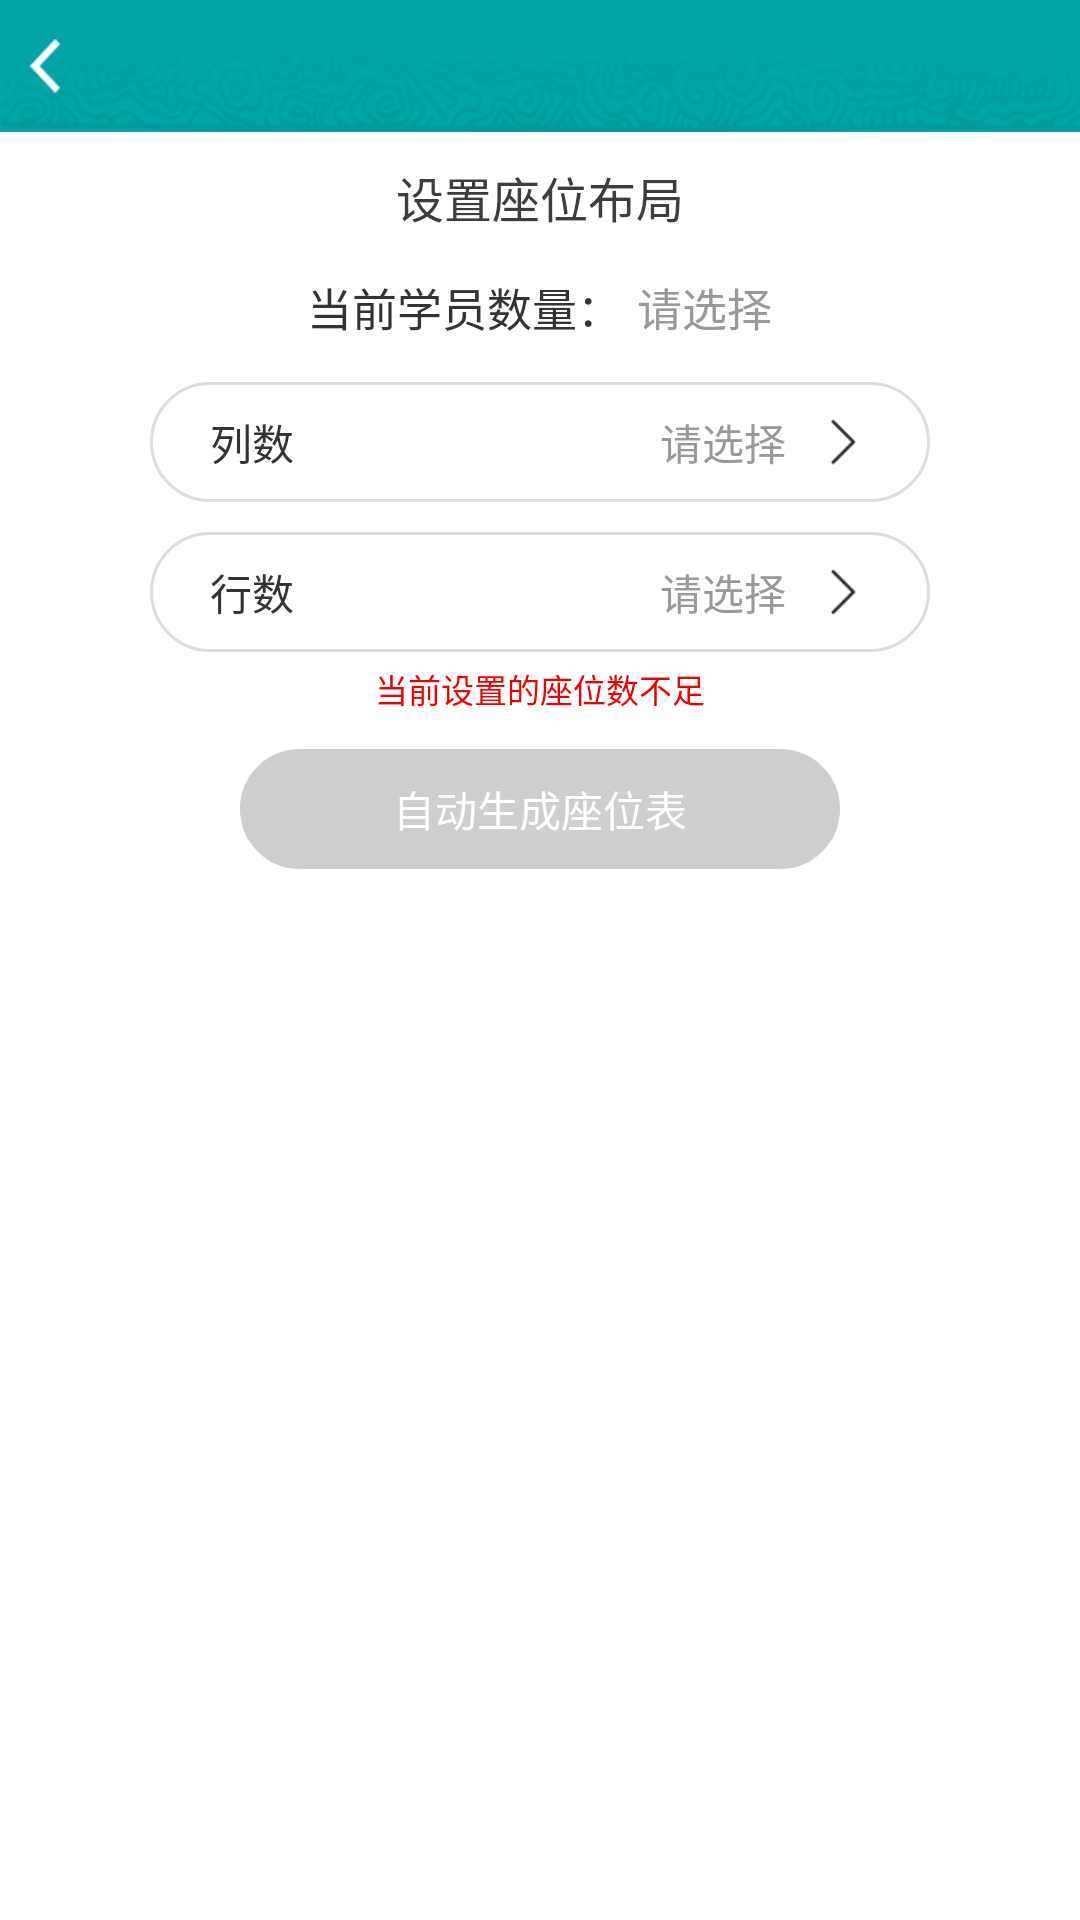

Screen size 1080px x 1920px. Icon name, then its center in pixels as point (x, y):
back arrow: point (45, 66)
to right: point (843, 442), point (843, 592)
